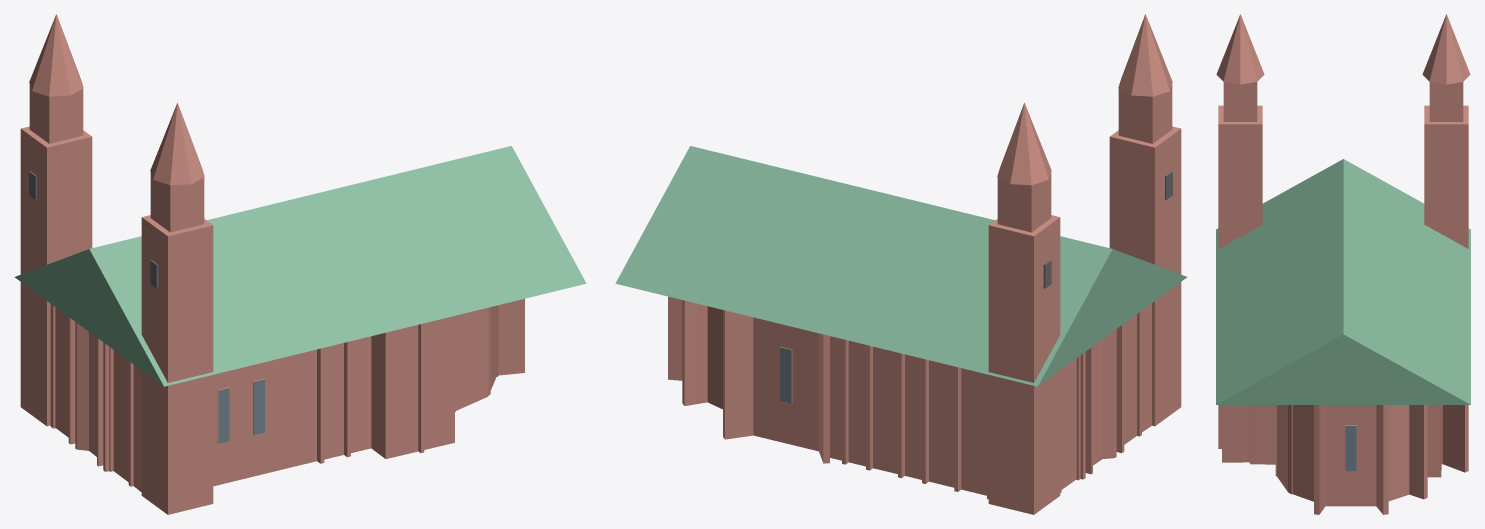
File: basel-muenster.glb
The picture shows the model from 3 angles, left to right: view 1: azimuth 30°, elevation 25°; view 2: azimuth 150°, elevation 25°; view 3: azimuth 270°, elevation 25°; orthographic projection. The views are drawn at different scales.
Visible parts, largest first — view 1: building; view 2: building; view 3: building.
Boxes of the visible parts, bbox=[...] form: building: bbox=[14, 14, 586, 514]; building: bbox=[615, 14, 1187, 514]; building: bbox=[1216, 14, 1470, 514].
Size of the model in its own units: 74.57 by 67 by 45.81.
